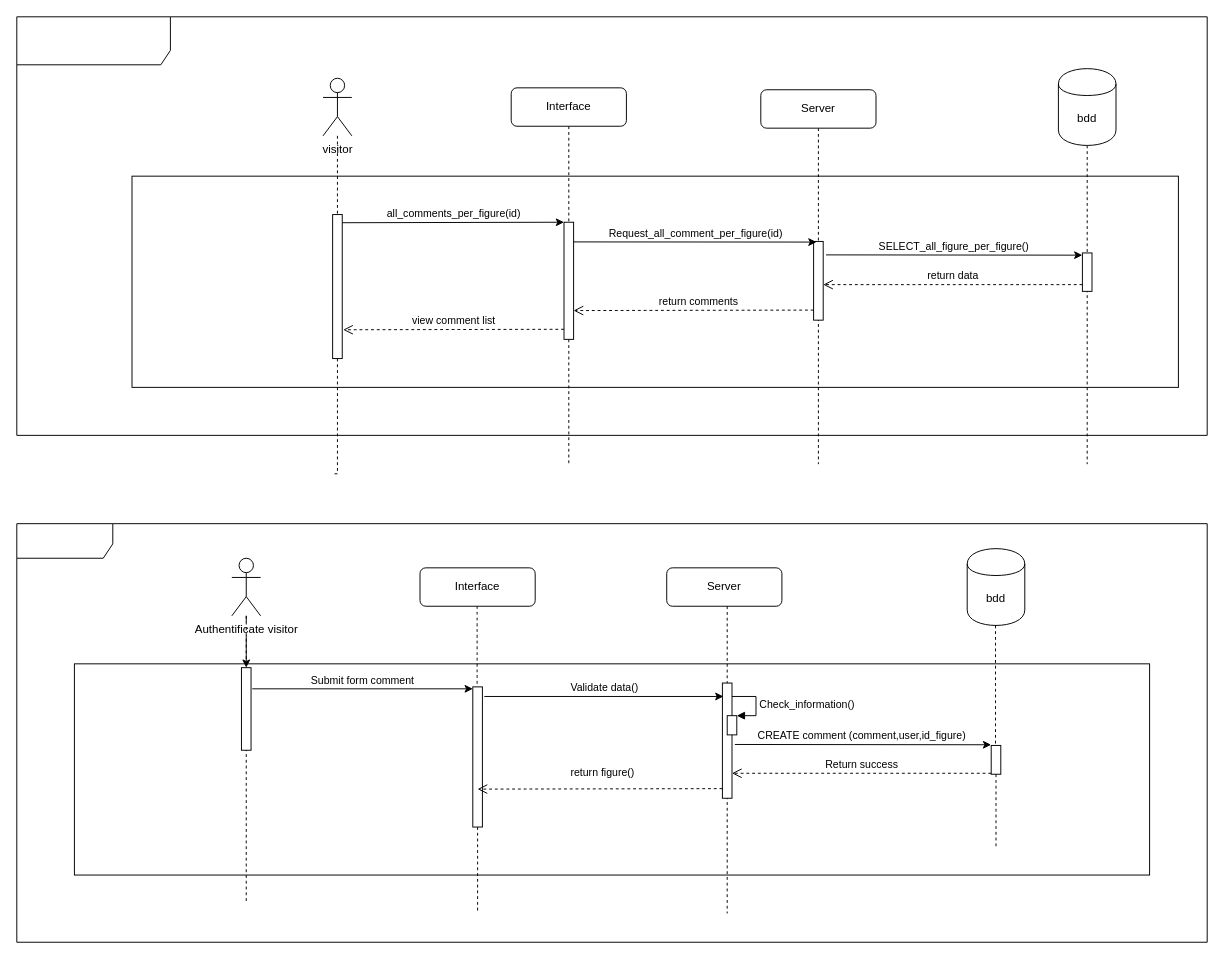
Some shapes in this 1224 by 959 pixel diagram are drawn without their labels. Here are the shapes that lost their labels. From the top down, the box of each, then its label:
(16, 16, 1207, 435): View comment
(16, 523, 1207, 942): Add comment
